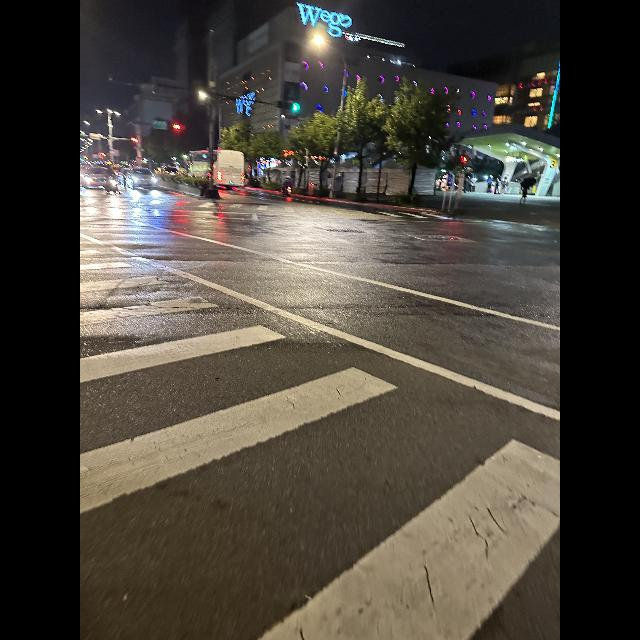sidewalk: (80, 237, 560, 638)
